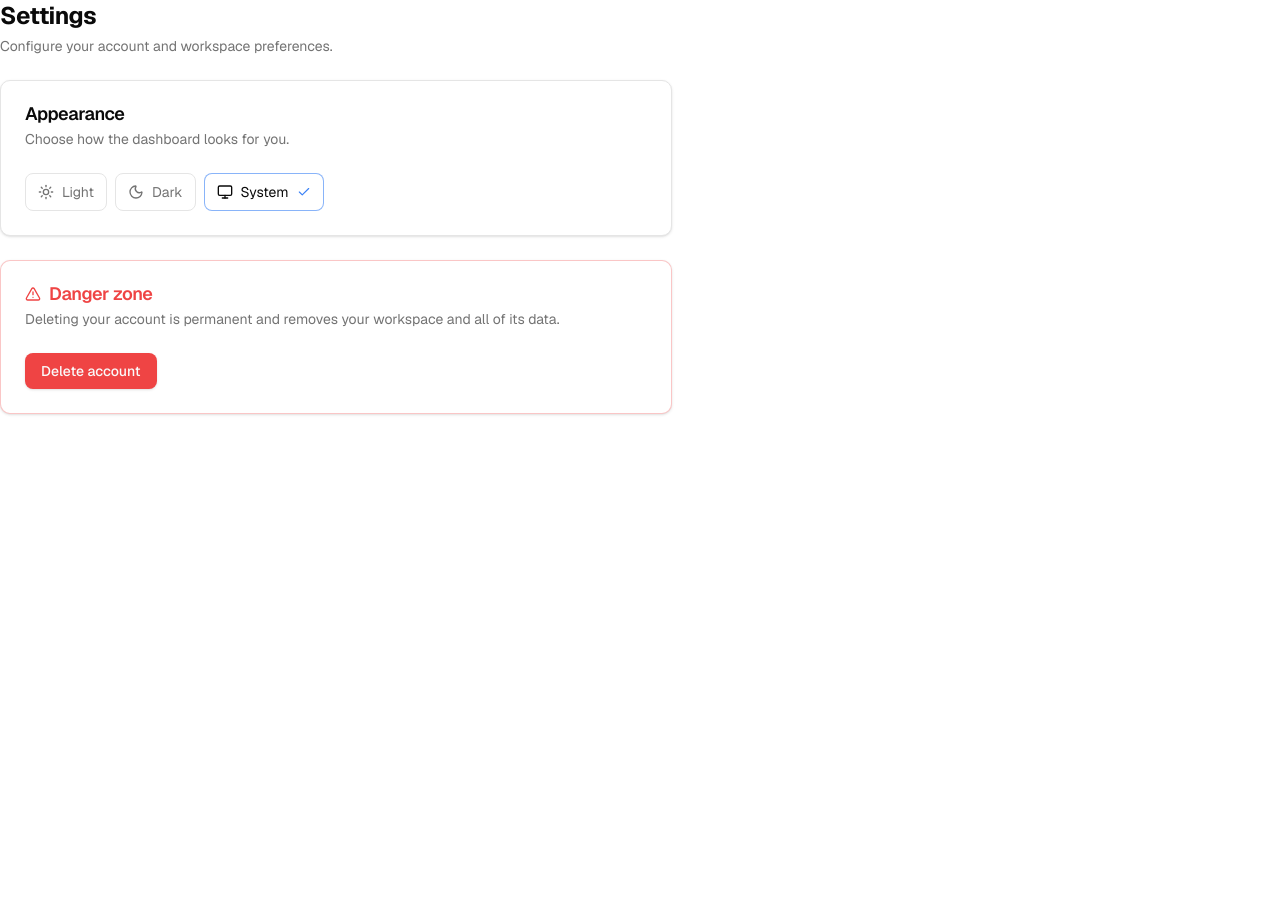
Test: SettingsPage › shows an inline error when deletion fails
The width and height of the screenshot is (1280, 900).
Click the button "Delete account". click: (91, 371)
box: [25, 353, 156, 389]
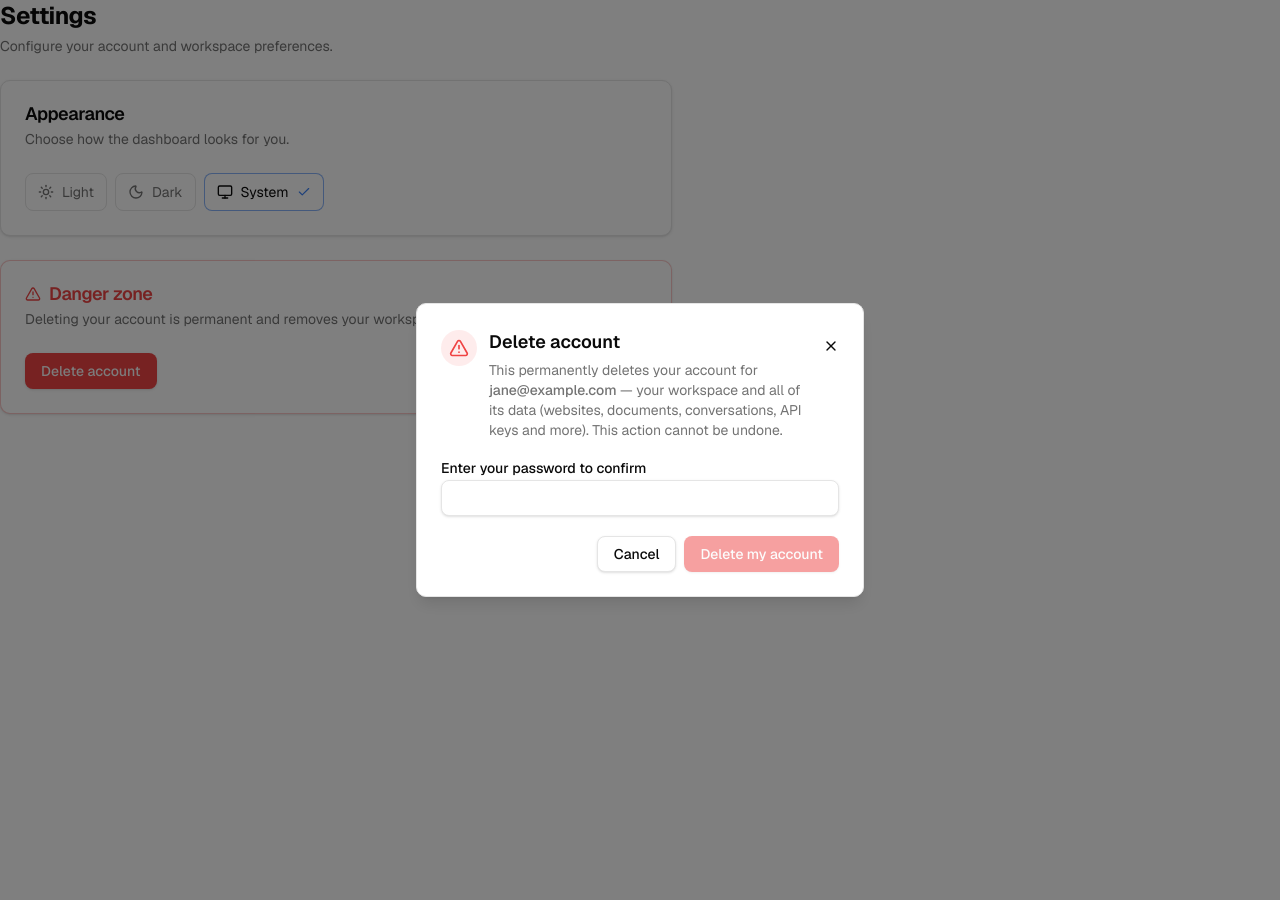
Type "Str0ng!Pass" into the password field labelled "Enter your password to confirm". click: (640, 498)
box: [441, 480, 839, 516]
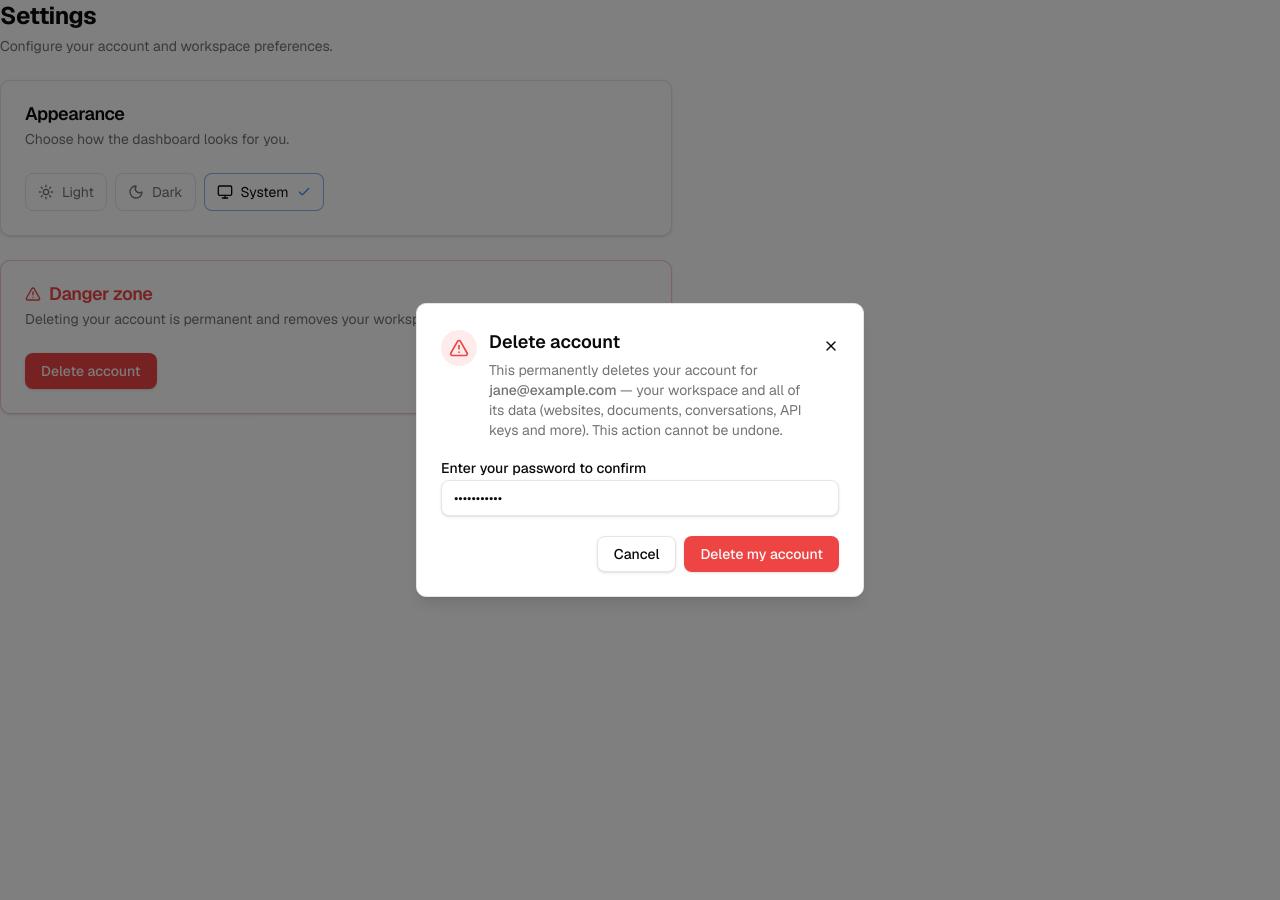
Click the button with test id "delete-account-confirm". click: (762, 554)
box: [684, 536, 839, 572]
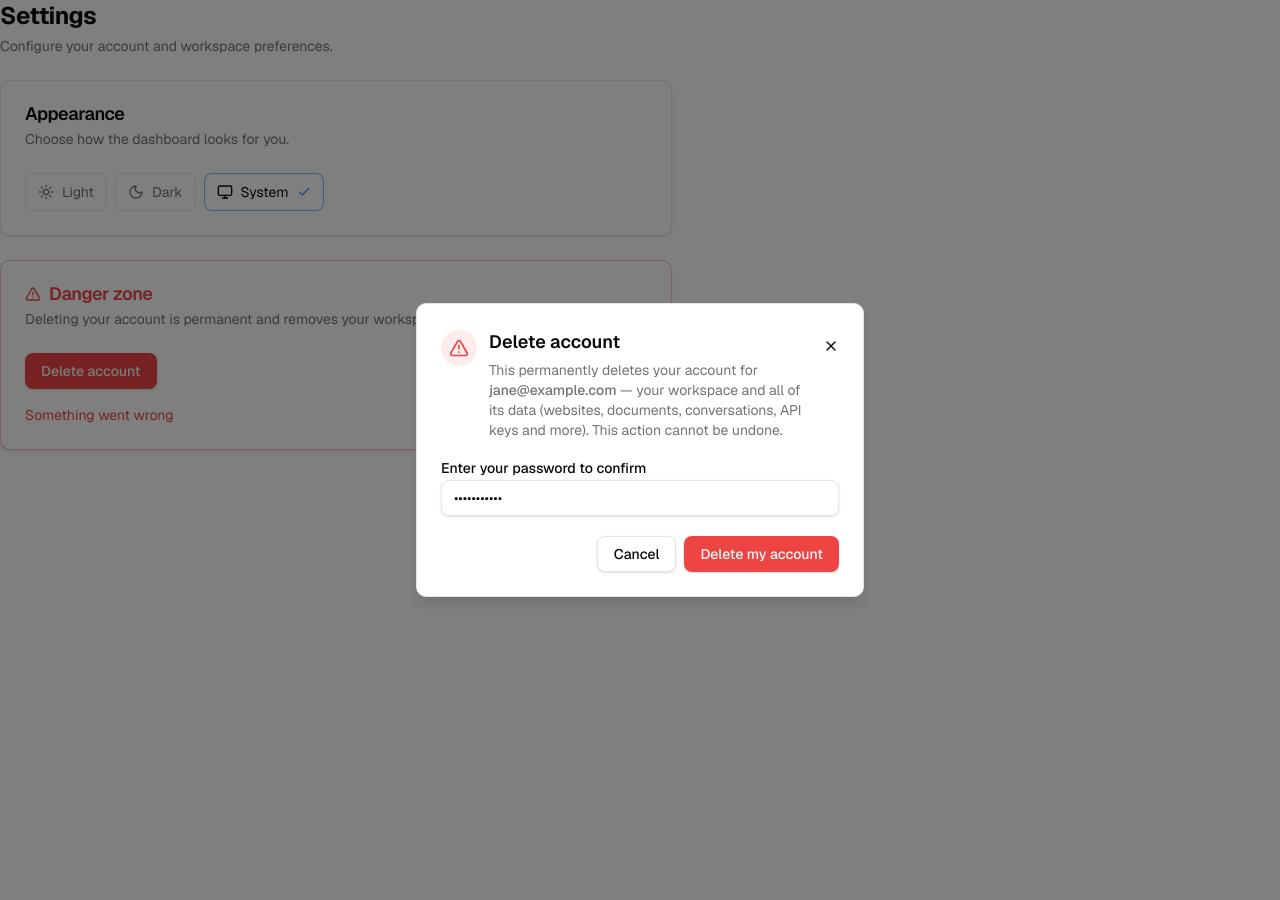
Expected: the message reads "Something went wrong", [25, 406, 174, 424]
